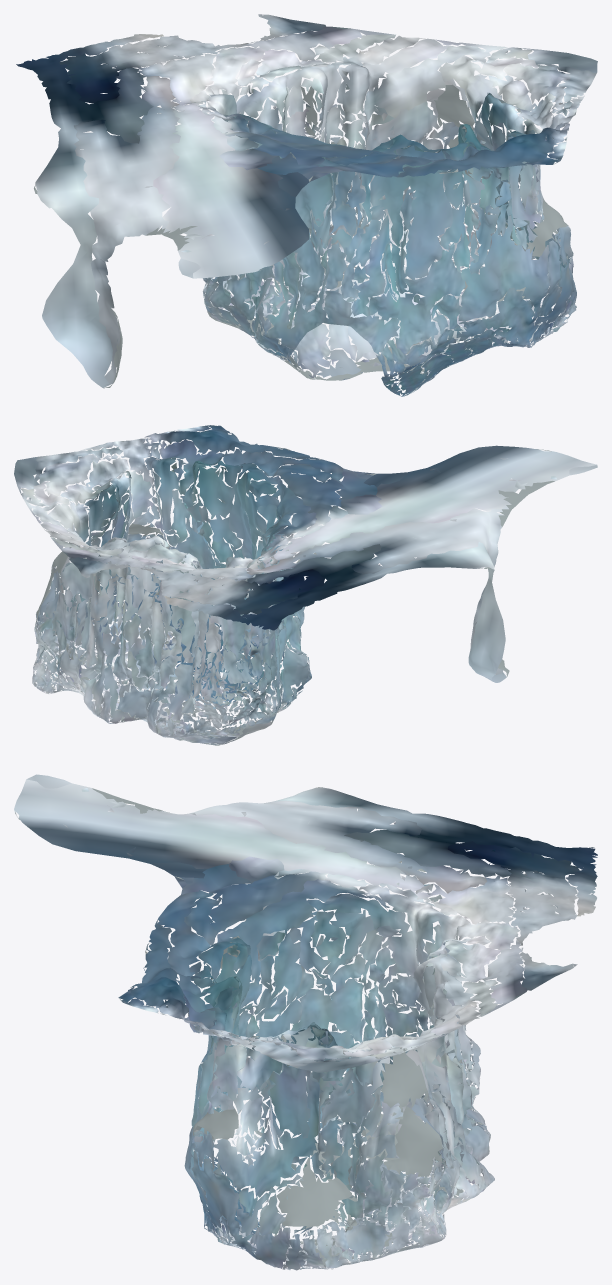
The model's file is Ice_Cave_2_Optimized.glb.
3 views of the same model, one above another, from view 1: azimuth 30°, elevation 25°; view 2: azimuth 150°, elevation 25°; view 3: azimuth 270°, elevation 25° (orthographic). The views are drawn at different scales.
Parts seen in each view (by area): view 1: Ice_Cave_2; view 2: Ice_Cave_2; view 3: Ice_Cave_2.
Boxes of the visible parts, x1,y1,x2,y2 form: Ice_Cave_2: [16, 14, 597, 396]; Ice_Cave_2: [14, 425, 597, 745]; Ice_Cave_2: [14, 774, 597, 1270].
Size of the model in its own units: 3.49 by 1.73 by 3.08.
Materials: 7 (7 with a texture image).
